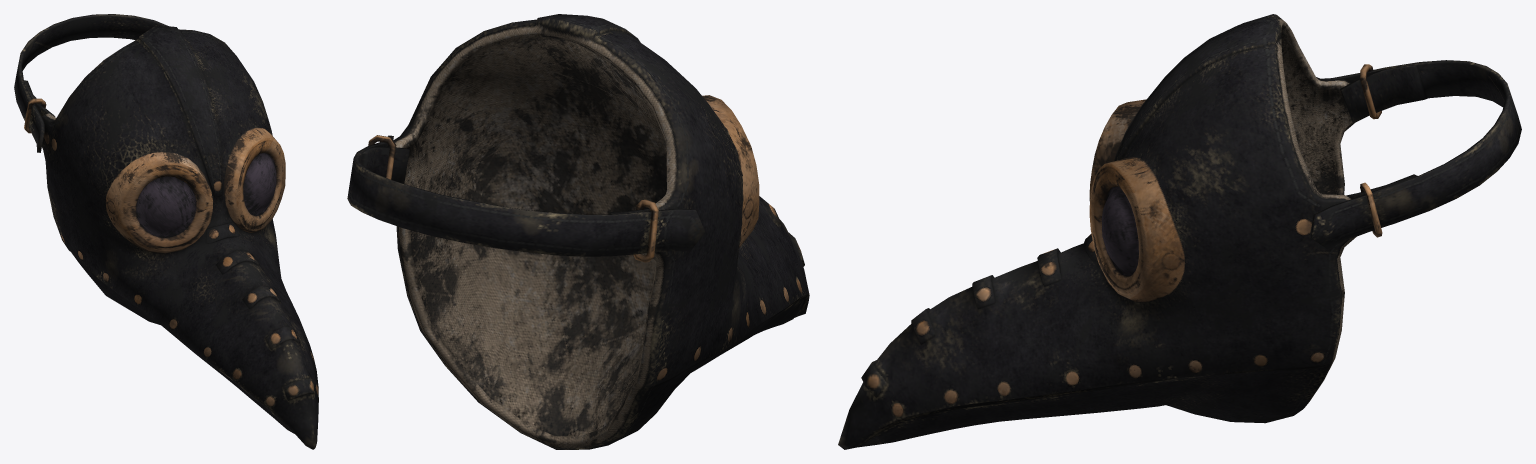
The picture shows the model from 3 angles, left to right: view 1: azimuth 30°, elevation 25°; view 2: azimuth 150°, elevation 25°; view 3: azimuth 270°, elevation 25°; orthographic projection. The views are drawn at different scales.
Visible parts, largest first — view 1: Mask; view 2: Mask; view 3: Mask.
Boxes of the visible parts, left/top/right/bottom form: Mask: left=14, top=14, right=318, bottom=449; Mask: left=347, top=14, right=809, bottom=449; Mask: left=838, top=14, right=1521, bottom=449.
Bounding box in the file's own units: 0.2184 × 0.3048 × 0.4413.
Materials: 1 (1 with a texture image).
